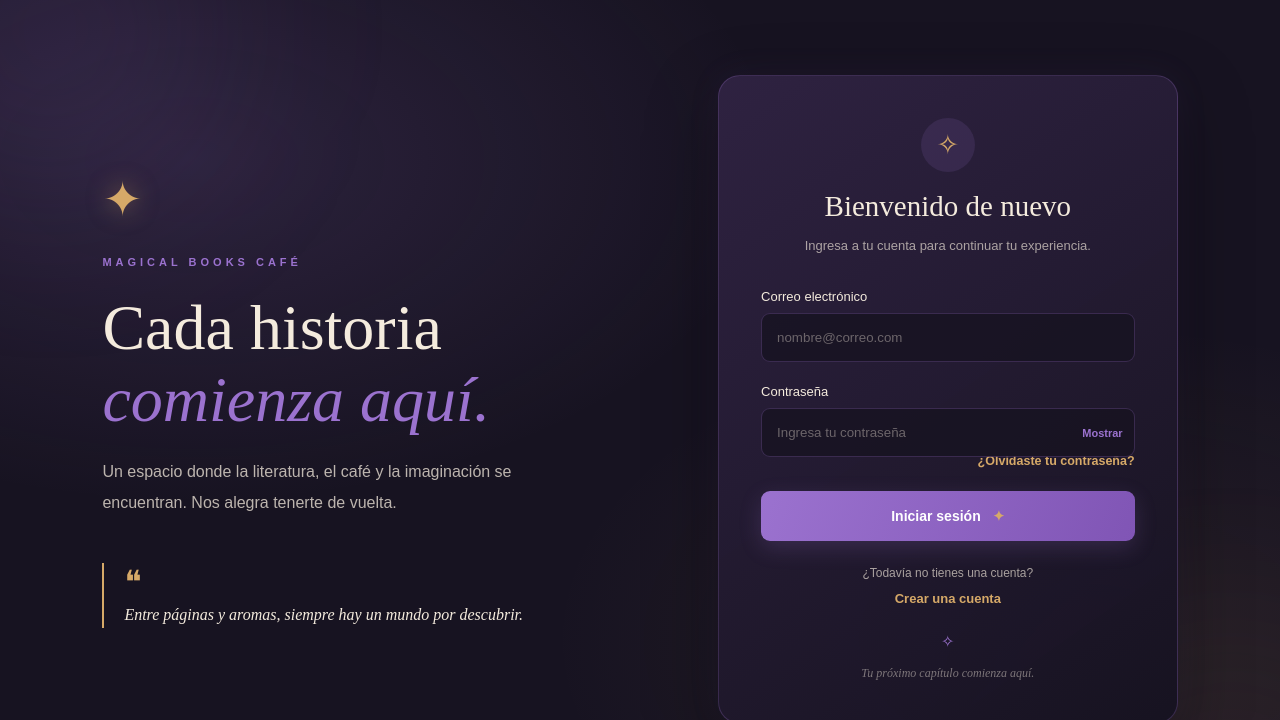
Test: Login › muestra el error cuando el login falla
Type "ana@example.com" into the field labelled "Correo electrónico" at (948, 338), box [761,313,1134,362]
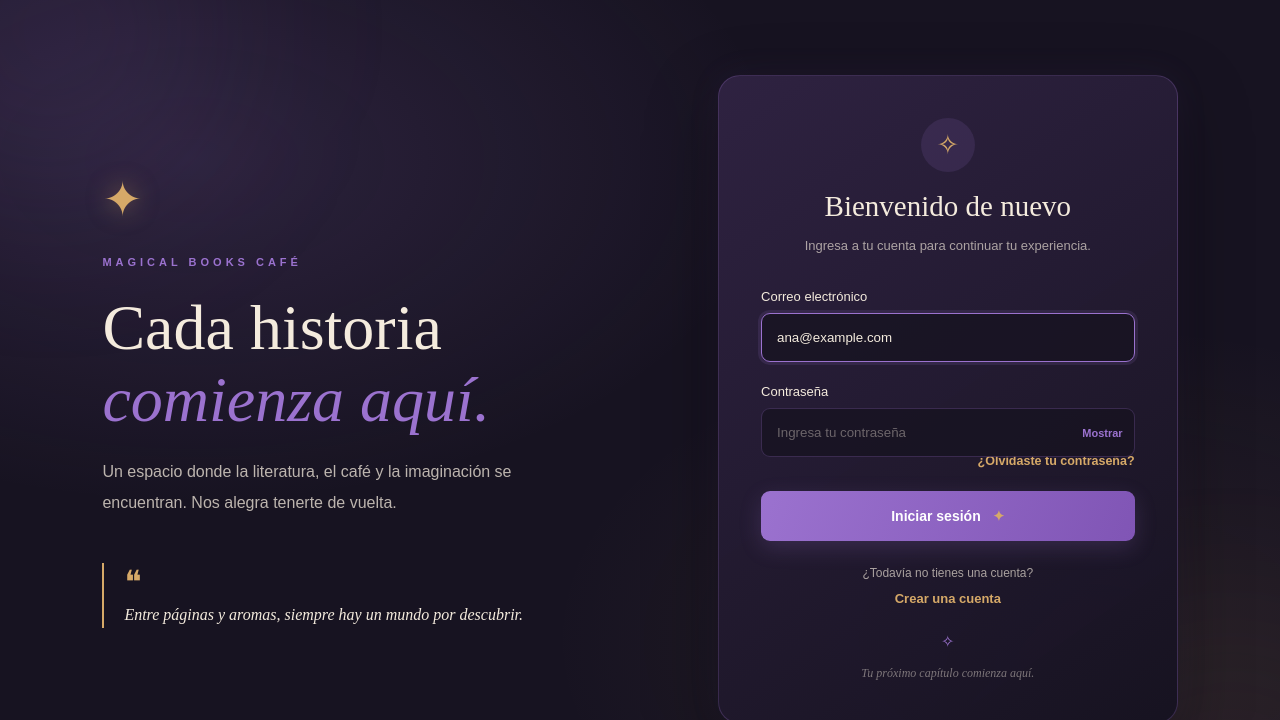
Type "secreta123" into the password field labelled "Contraseña" at (948, 433), box [761,408,1134,457]
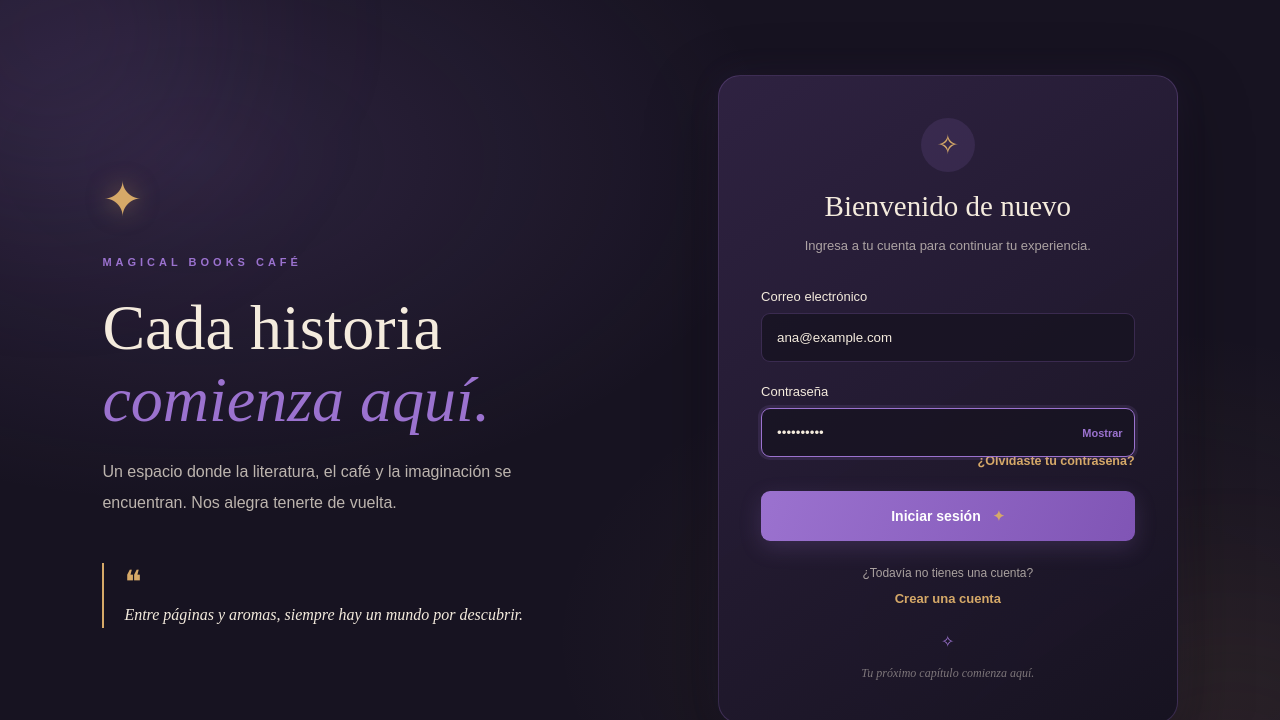
Click the button "Iniciar sesión ✦" at (948, 516), box [761,491,1134,541]
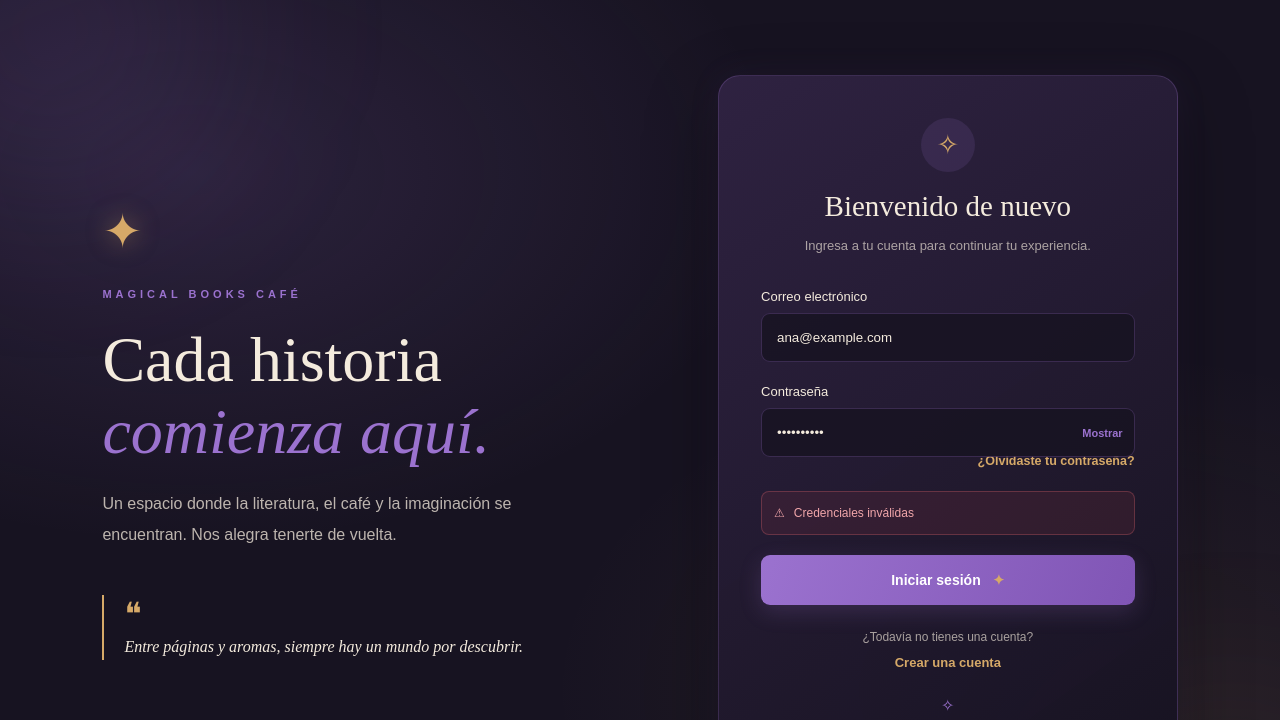
Expected: the message shows "Credenciales inválidas", [794,506,914,520]
